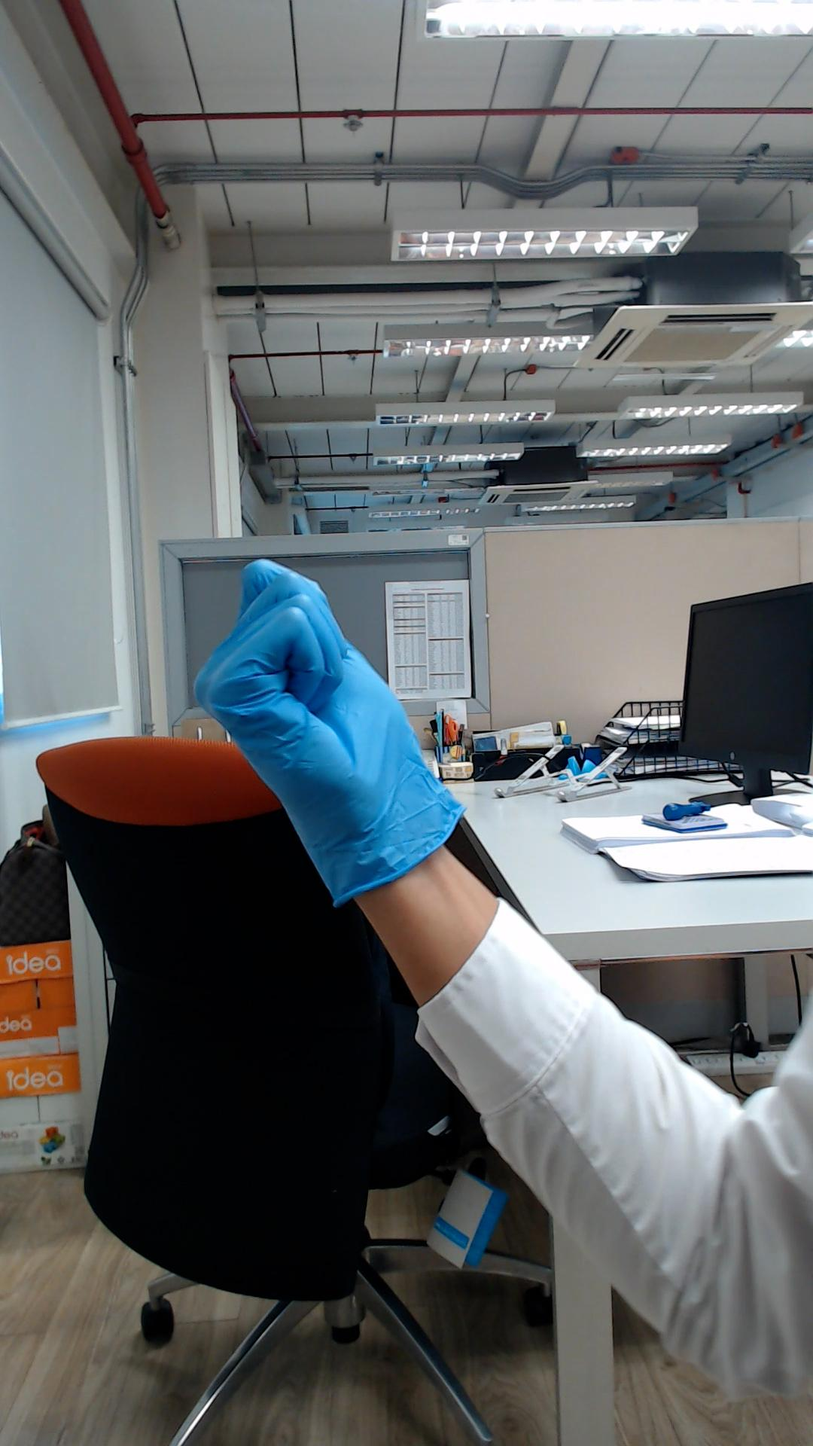gloves: (172, 530, 438, 818)
